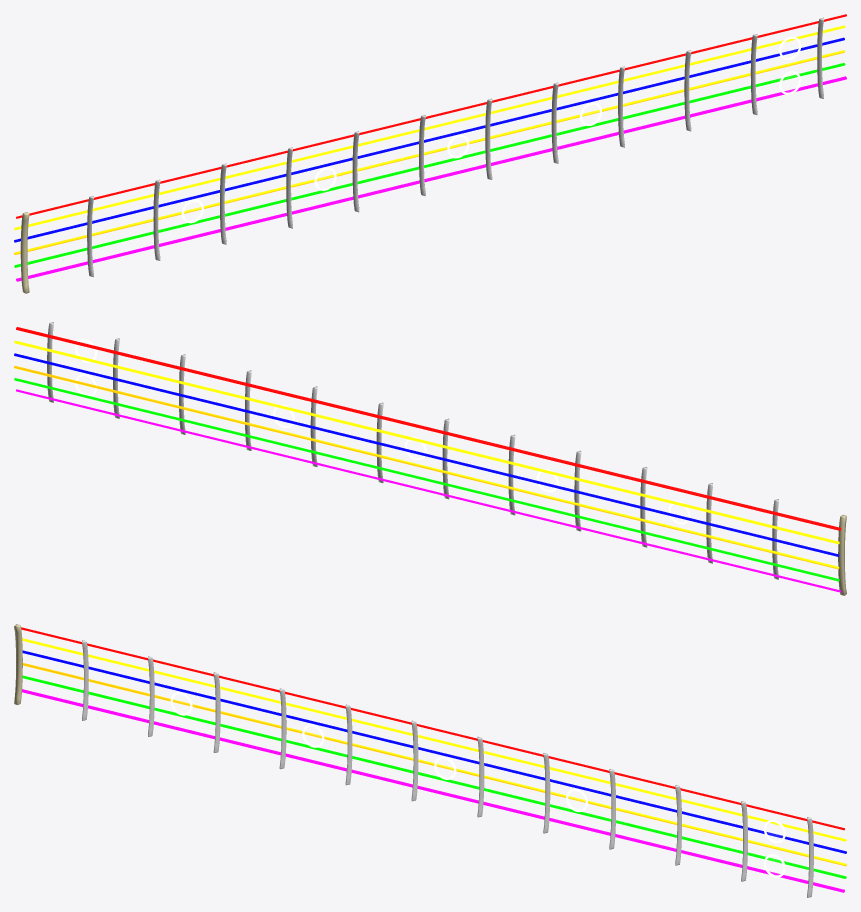
The model's file is guitar.glb.
The picture shows the model from 3 angles, top to bottom: view 1: azimuth 30°, elevation 25°; view 2: azimuth 150°, elevation 25°; view 3: azimuth 330°, elevation 25°; orthographic projection.
Visible parts, largest first — view 1: frets, string_high_e, string_b, string_d, string_g, string_a, string_low_e, nut; view 2: frets, string_low_e, string_a, string_g, string_d, string_b, string_high_e, nut; view 3: frets, string_high_e, string_b, string_d, string_g, string_a, string_low_e, nut.
Part boxes in pixels (bbox=[...]): frets: bbox=[87, 17, 823, 276]; string_high_e: bbox=[16, 76, 846, 281]; string_b: bbox=[14, 63, 845, 267]; string_d: bbox=[14, 37, 844, 242]; string_g: bbox=[14, 50, 844, 254]; string_a: bbox=[14, 25, 845, 230]; string_low_e: bbox=[16, 14, 846, 218]; nut: bbox=[20, 212, 29, 293]; frets: bbox=[47, 322, 778, 579]; string_low_e: bbox=[16, 327, 841, 530]; string_a: bbox=[14, 340, 839, 544]; string_g: bbox=[14, 366, 839, 569]; string_d: bbox=[14, 353, 839, 556]; string_b: bbox=[14, 378, 839, 581]; string_high_e: bbox=[16, 389, 841, 592]; nut: bbox=[838, 515, 846, 595]; frets: bbox=[82, 640, 813, 897]; string_high_e: bbox=[22, 689, 844, 892]; string_b: bbox=[22, 675, 846, 878]; string_d: bbox=[22, 650, 846, 853]; string_g: bbox=[23, 663, 846, 866]; string_a: bbox=[22, 638, 846, 841]; string_low_e: bbox=[21, 627, 844, 830]; nut: bbox=[14, 624, 22, 704].
Size of the model in its own units: 25 by 2.28 by 0.532.
